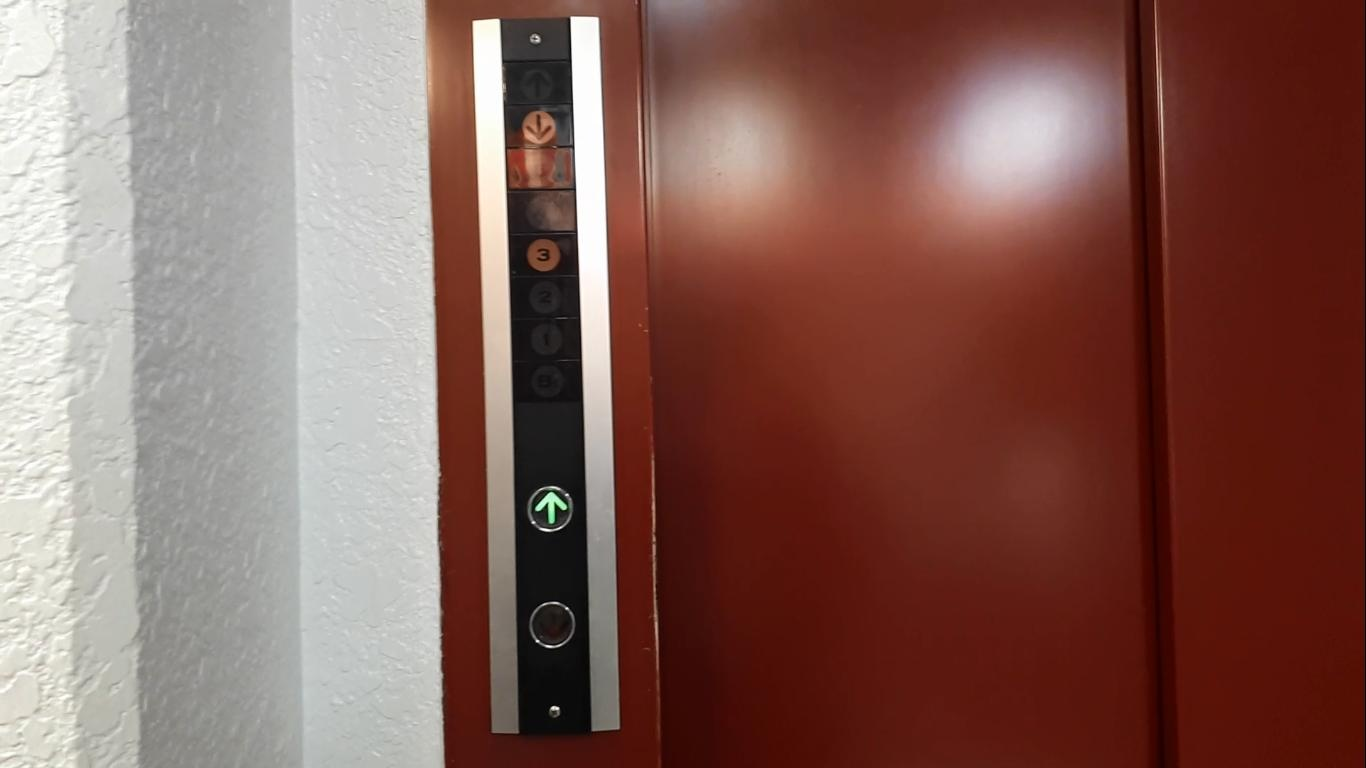1: (509, 314, 585, 362)
2: (507, 273, 584, 320)
3: (506, 229, 582, 277)
B1: (510, 356, 586, 404)
blur: (504, 183, 580, 234), (503, 143, 578, 192)
down: (502, 101, 578, 150), (528, 600, 577, 650)
up: (500, 57, 576, 108), (524, 484, 575, 534)
